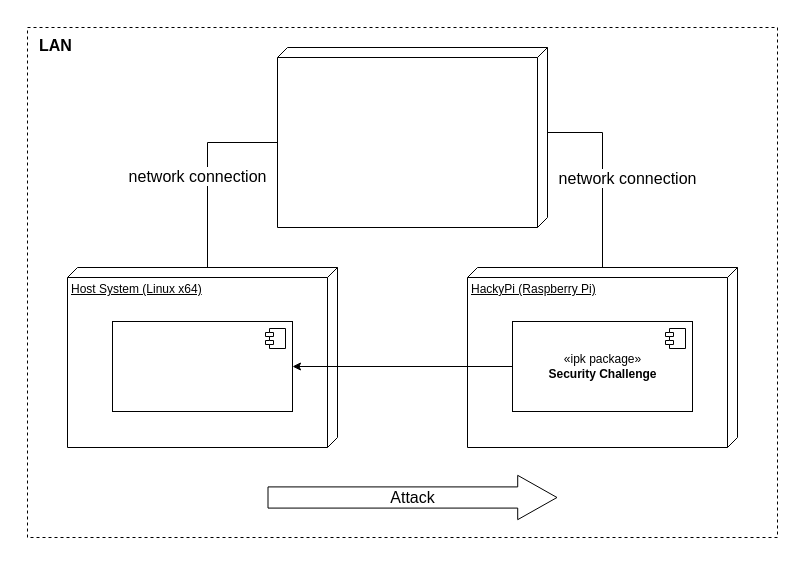
This 804x564 diagram has some shape labels left out. The shapes that lost their labels are listed below. From the top down, each one's box as (x1, y1, x2, y2) in pixels, then its label:
(276, 46, 548, 228): DHCP Server (Router)
(112, 320, 292, 412): «OPKG Server» Hacky Packages Server
